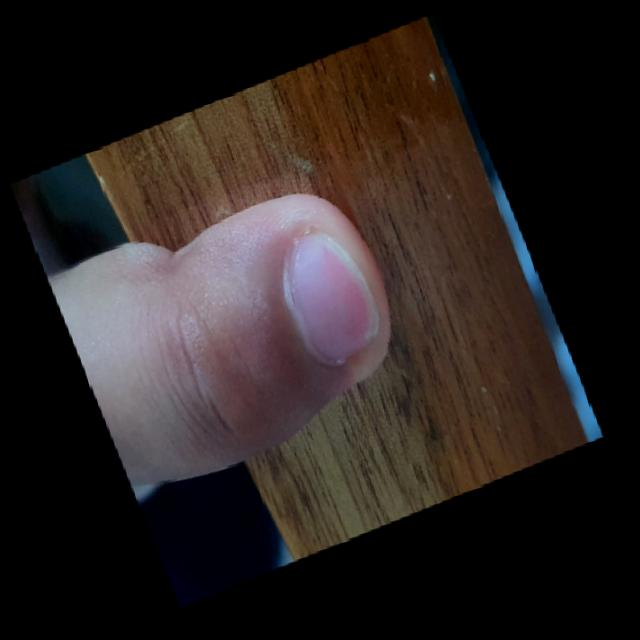Nail: (285, 231, 377, 362)
